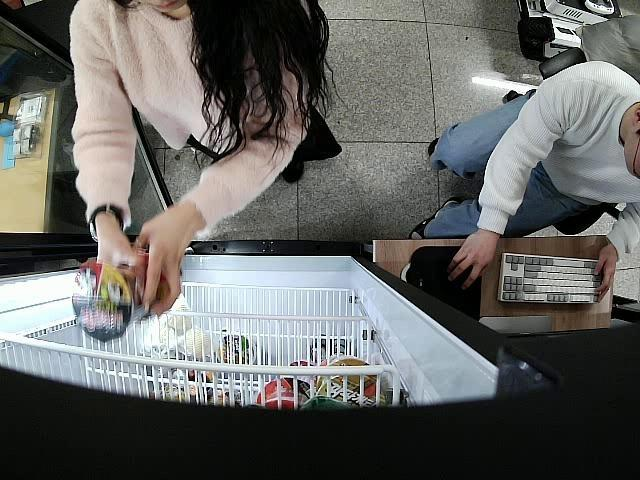08_buldak_S: (72, 262, 152, 342)
